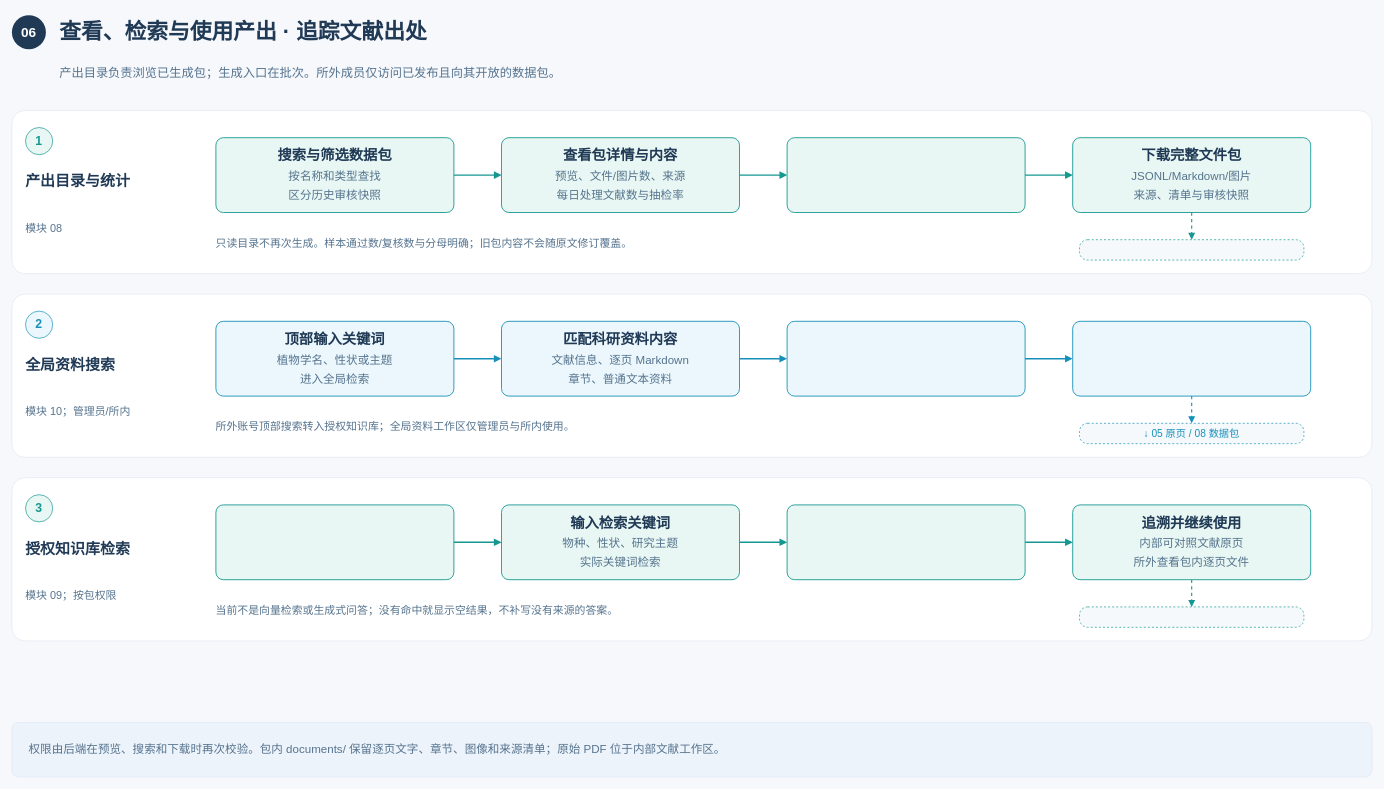
The diagram is 1384 pixels wide and 789 high, and some of its shapes have lost their labels. Here are the shapes that lost their labels. From the top down, the centre of each, then its label:
At [905,175]: "管理员发布并授权 设置发布/取消发布 最低访问角色与来源许可".
At [1191,249]: "↓ 09 知识库检索".
At [905,358]: "阅读命中内容与出处 高亮匹配片段 页码与所属资料/版本".
At [1191,358]: "继续对照原件或产出 打开原页/原始资产 进入所属数据包".
At [334,542]: "选择知识库范围 一个版本或全部授权包 只显示当前可访问版本".
At [905,542]: "查看原片段与来源 匹配文本、文献页码 所属知识库包与版本".
At [1191,616]: "↓ 08 版本文件与下载".
